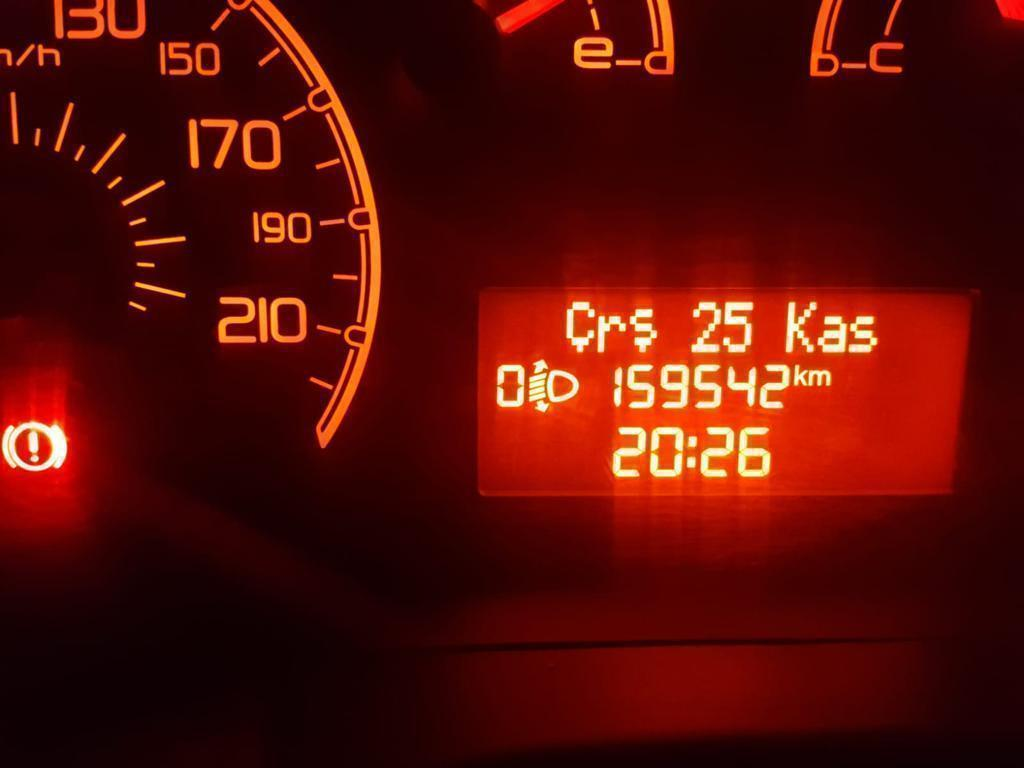0: (649, 425, 685, 478), (495, 363, 526, 408)
1: (612, 365, 623, 408)
2: (610, 425, 647, 478), (688, 300, 722, 354), (700, 425, 735, 477), (758, 363, 792, 410)
4: (725, 365, 757, 408)
5: (723, 301, 755, 353), (625, 363, 656, 410), (692, 363, 723, 409)
6: (736, 426, 772, 478)
9: (658, 364, 690, 409)
X: (784, 300, 818, 354), (565, 301, 596, 353), (629, 307, 658, 352), (816, 315, 848, 353), (847, 315, 879, 353), (596, 314, 626, 353), (686, 435, 698, 468), (808, 369, 831, 386), (793, 363, 809, 387)
odometer: (470, 280, 985, 504)
